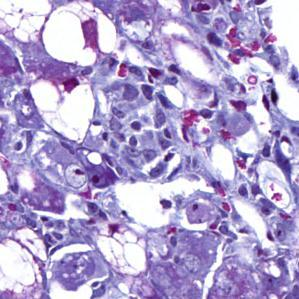ballooning: (41, 1, 118, 69), (25, 75, 97, 145), (93, 219, 150, 278)
